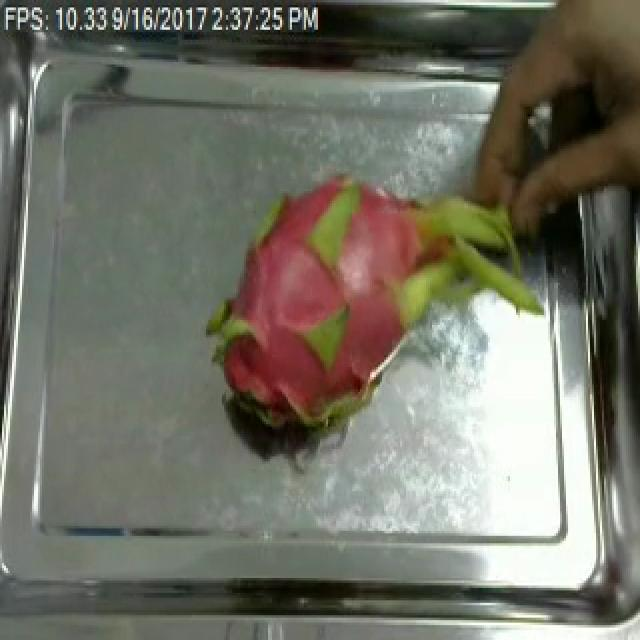fruit: (188, 126, 556, 469)
